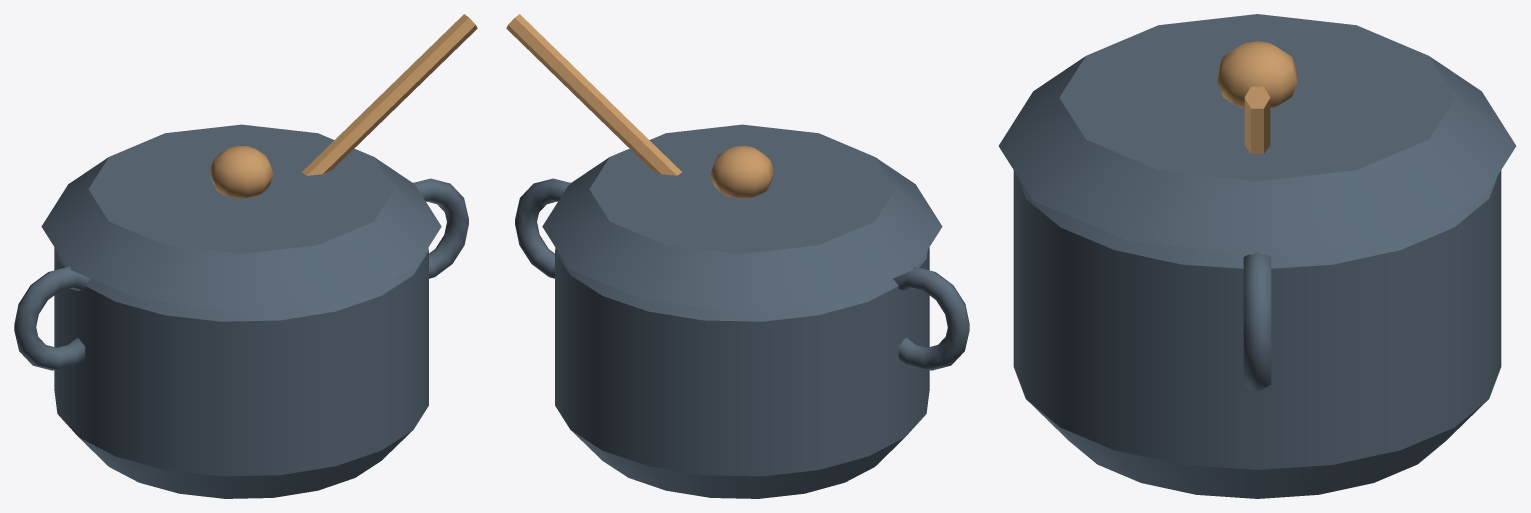
File: alpine-snow-village-covered-soup-pot-5c4d3d58__19841.glb
3 views of the same model, side by side, from view 1: azimuth 30°, elevation 25°; view 2: azimuth 150°, elevation 25°; view 3: azimuth 270°, elevation 25° (orthographic). The views are drawn at different scales.
Parts seen in each view (by area): view 1: covered-soup-pot-iron, covered-soup-pot-oak; view 2: covered-soup-pot-iron, covered-soup-pot-oak; view 3: covered-soup-pot-iron, covered-soup-pot-oak.
Boxes of the visible parts, x1,y1,x2,y2 form: covered-soup-pot-iron: (14,124,468,498); covered-soup-pot-oak: (209,14,477,198); covered-soup-pot-iron: (515,124,969,498); covered-soup-pot-oak: (506,14,774,198); covered-soup-pot-iron: (998,14,1516,498); covered-soup-pot-oak: (1217,41,1297,153).
Bounding box in the file's own units: 0.9044 × 0.6821 × 0.68.
